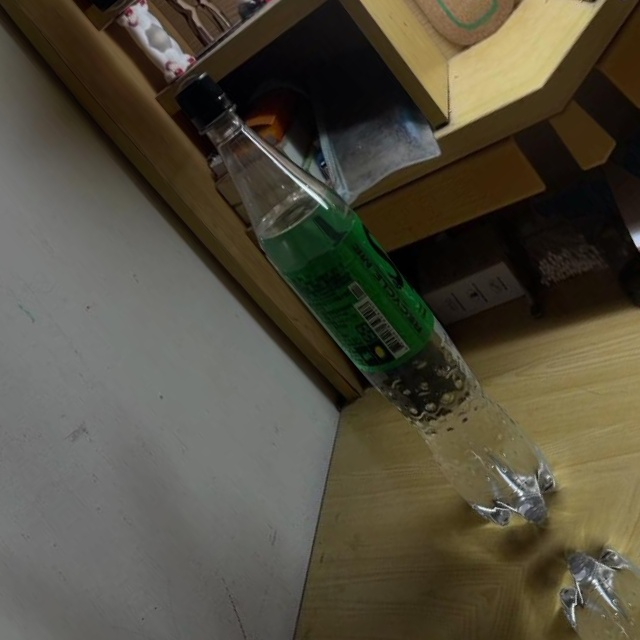Sprite: (144, 53, 581, 549)
